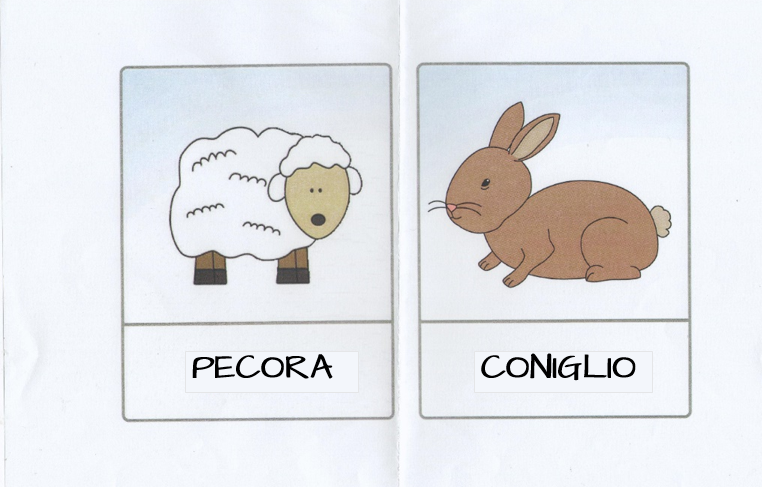coniglio: (421, 72, 677, 409)
pecora: (132, 85, 381, 402)
